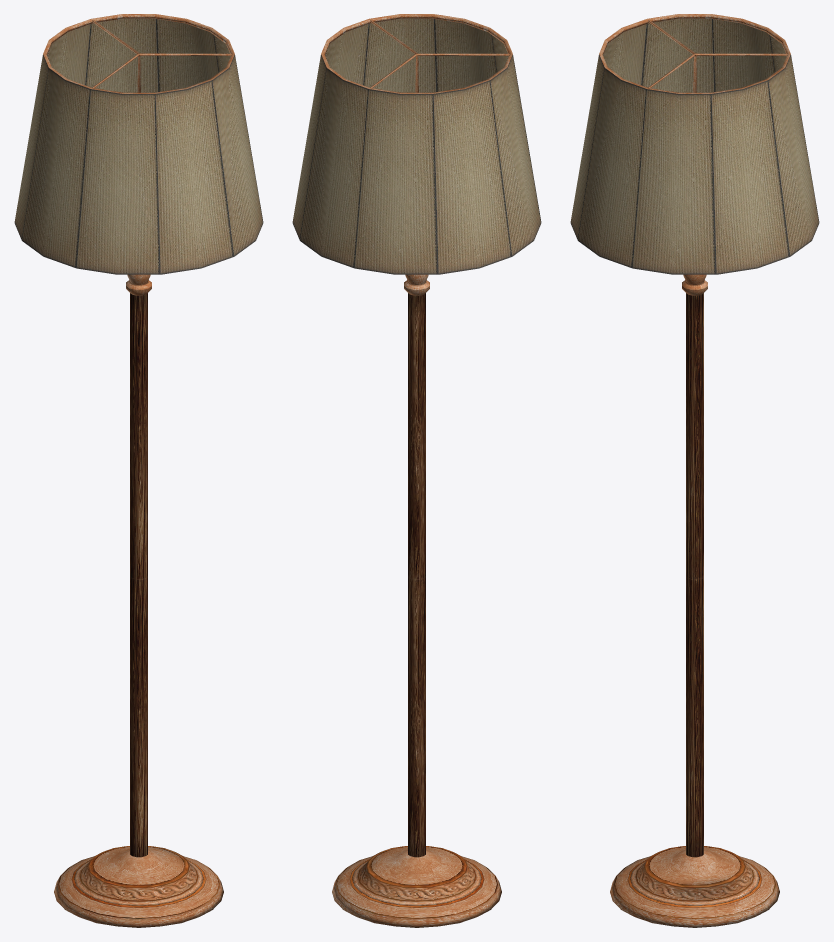
Rendered from o_lamp_standing_shade_02_a.fbx.
3 views of the same model, side by side, from view 1: azimuth 30°, elevation 25°; view 2: azimuth 150°, elevation 25°; view 3: azimuth 270°, elevation 25° (orthographic).
Visible parts, largest first — view 1: o_lamp_standing_shade_02_a.mo; view 2: o_lamp_standing_shade_02_a.mo; view 3: o_lamp_standing_shade_02_a.mo.
Boxes of the visible parts, x1,y1,x2,y2 form: o_lamp_standing_shade_02_a.mo: (14,14,263,927); o_lamp_standing_shade_02_a.mo: (292,14,541,927); o_lamp_standing_shade_02_a.mo: (570,14,819,927).
Bounding box in the file's own units: 0.2951 × 1.11 × 0.2996.
Materials: 2 (2 with a texture image).
